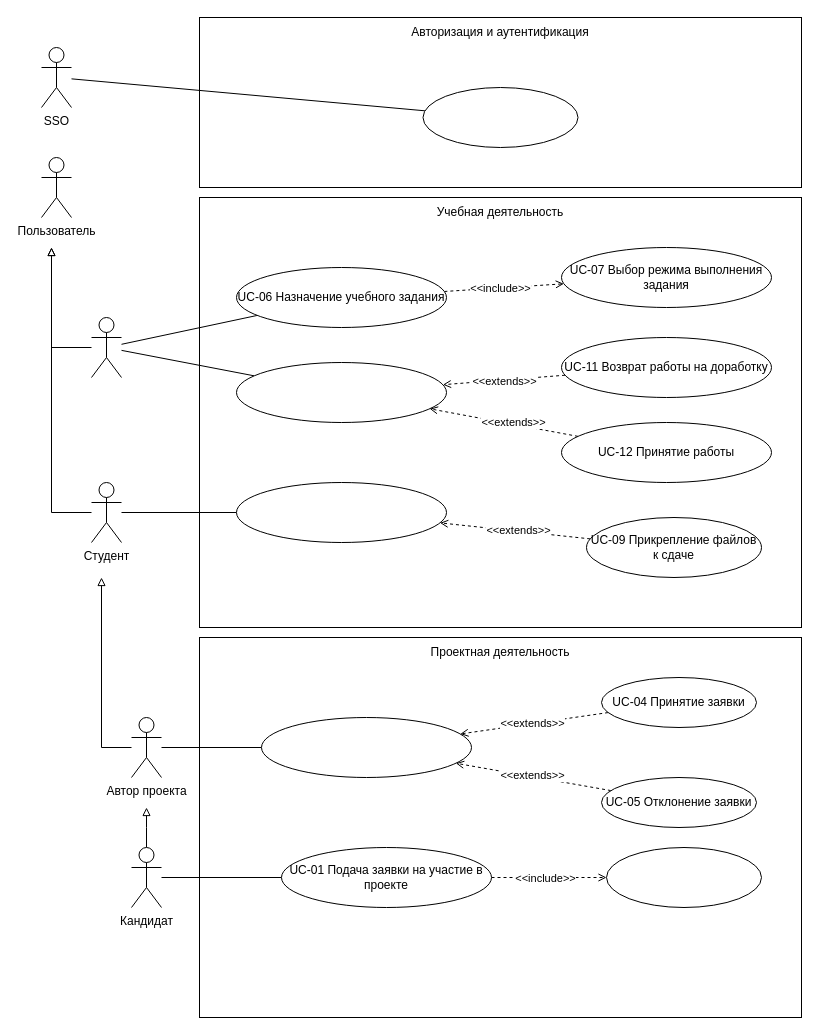
Some shapes in this 819 by 1035 pixel diagram are drawn without their labels. Here are the shapes that lost their labels. From the top down, the box of each, then its label:
(422, 86, 578, 148): Аутентификация пользователя
(90, 316, 122, 378): Преподаватель
(236, 362, 446, 422): UC-10 Проверка результата выполнения задания
(236, 482, 446, 542): UC-08 Отправка результата выполнения задания
(260, 716, 472, 778): UC-03 Рассмотрение входящей заявки
(606, 846, 762, 908): UC-02 Выбор ролей в заявке
